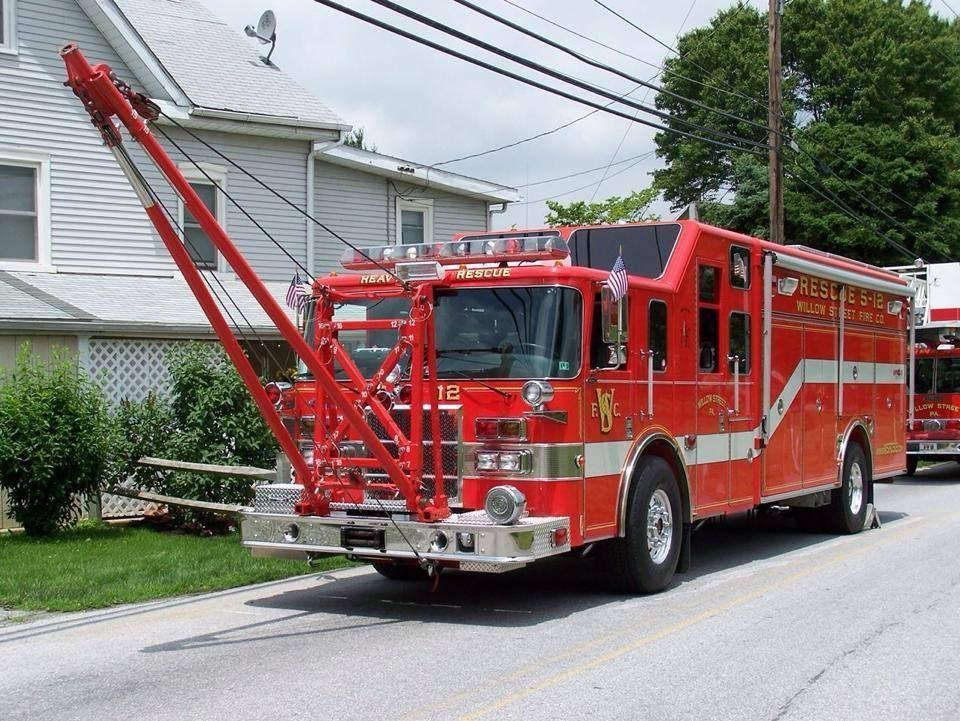Fire-engine: (226, 219, 917, 596)
